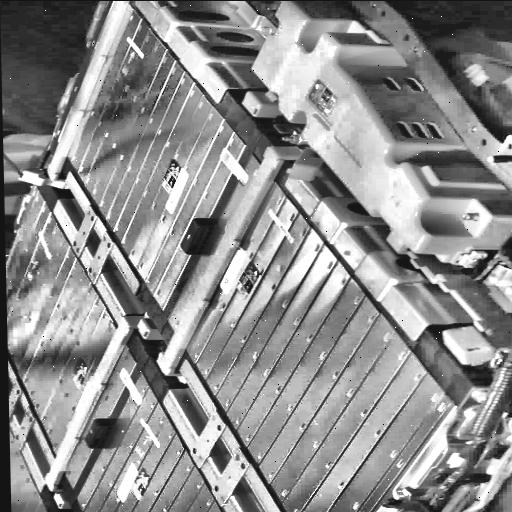battery_module: (166, 154, 456, 512), (56, 0, 247, 308), (6, 185, 137, 489), (76, 373, 222, 512)
busbar: (148, 141, 327, 386), (41, 309, 166, 511), (15, 0, 138, 193)
low_volt_cable: (401, 214, 512, 512)
